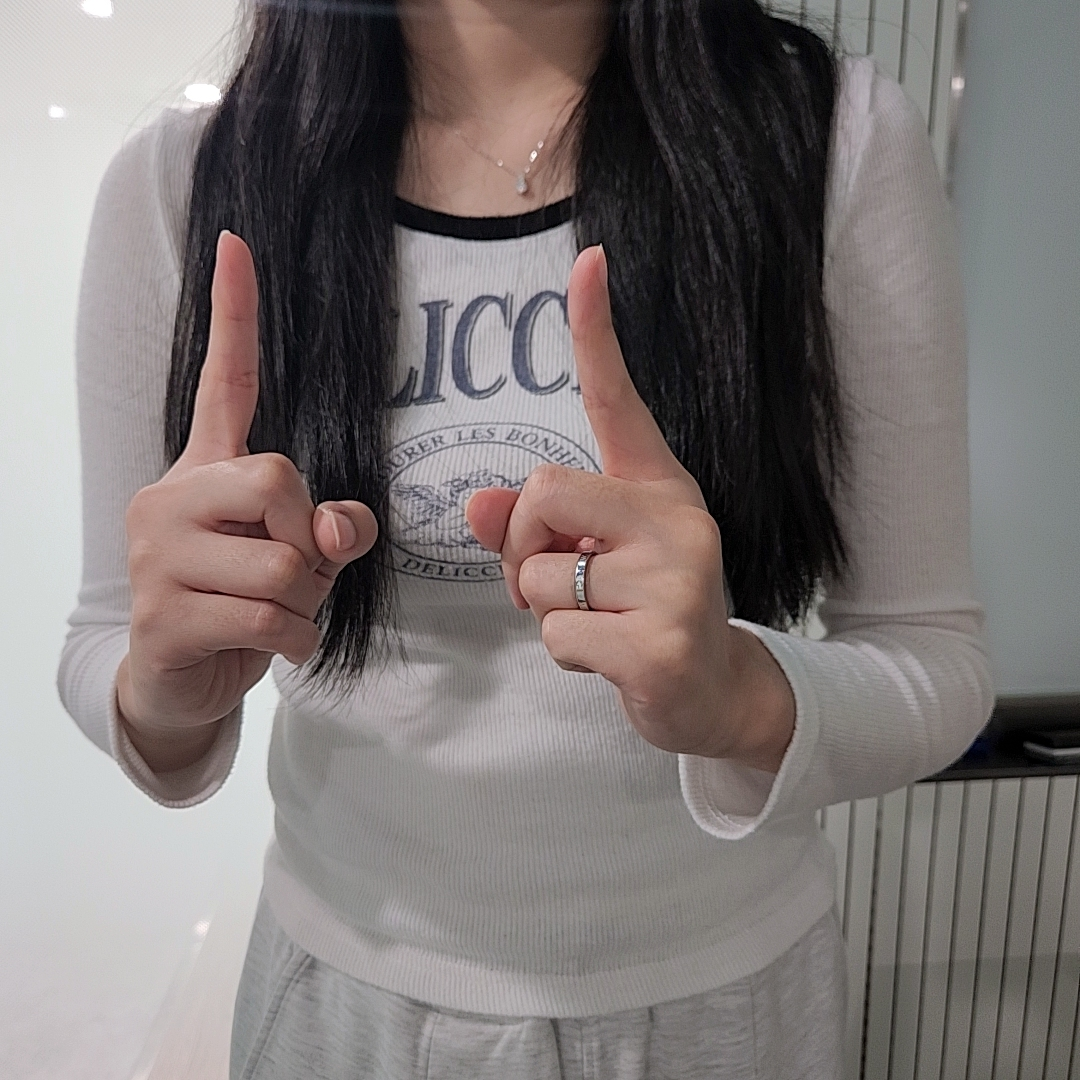meet: (122, 228, 734, 758)
